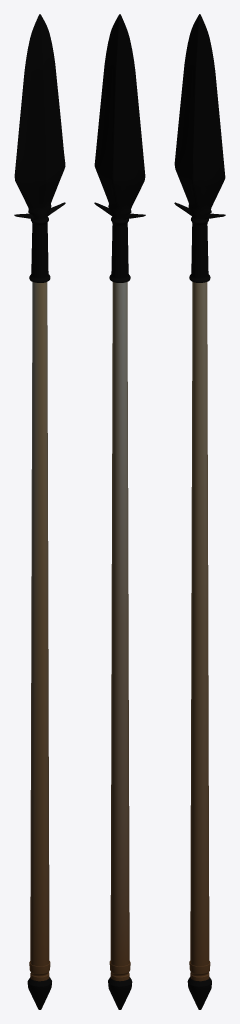
Rendered from Geb_spear.fbx.
The picture shows the model from 3 angles, left to right: view 1: azimuth 30°, elevation 25°; view 2: azimuth 150°, elevation 25°; view 3: azimuth 330°, elevation 25°; orthographic projection.
Parts seen in each view (by area): view 1: Spear; view 2: Spear; view 3: Spear.
Boxes of the visible parts, x1,y1,x2,y2 form: Spear: [14, 14, 65, 1009]; Spear: [94, 14, 145, 1009]; Spear: [174, 14, 225, 1009].
Size of the model in its own units: 9.74 by 182 by 4.79.
